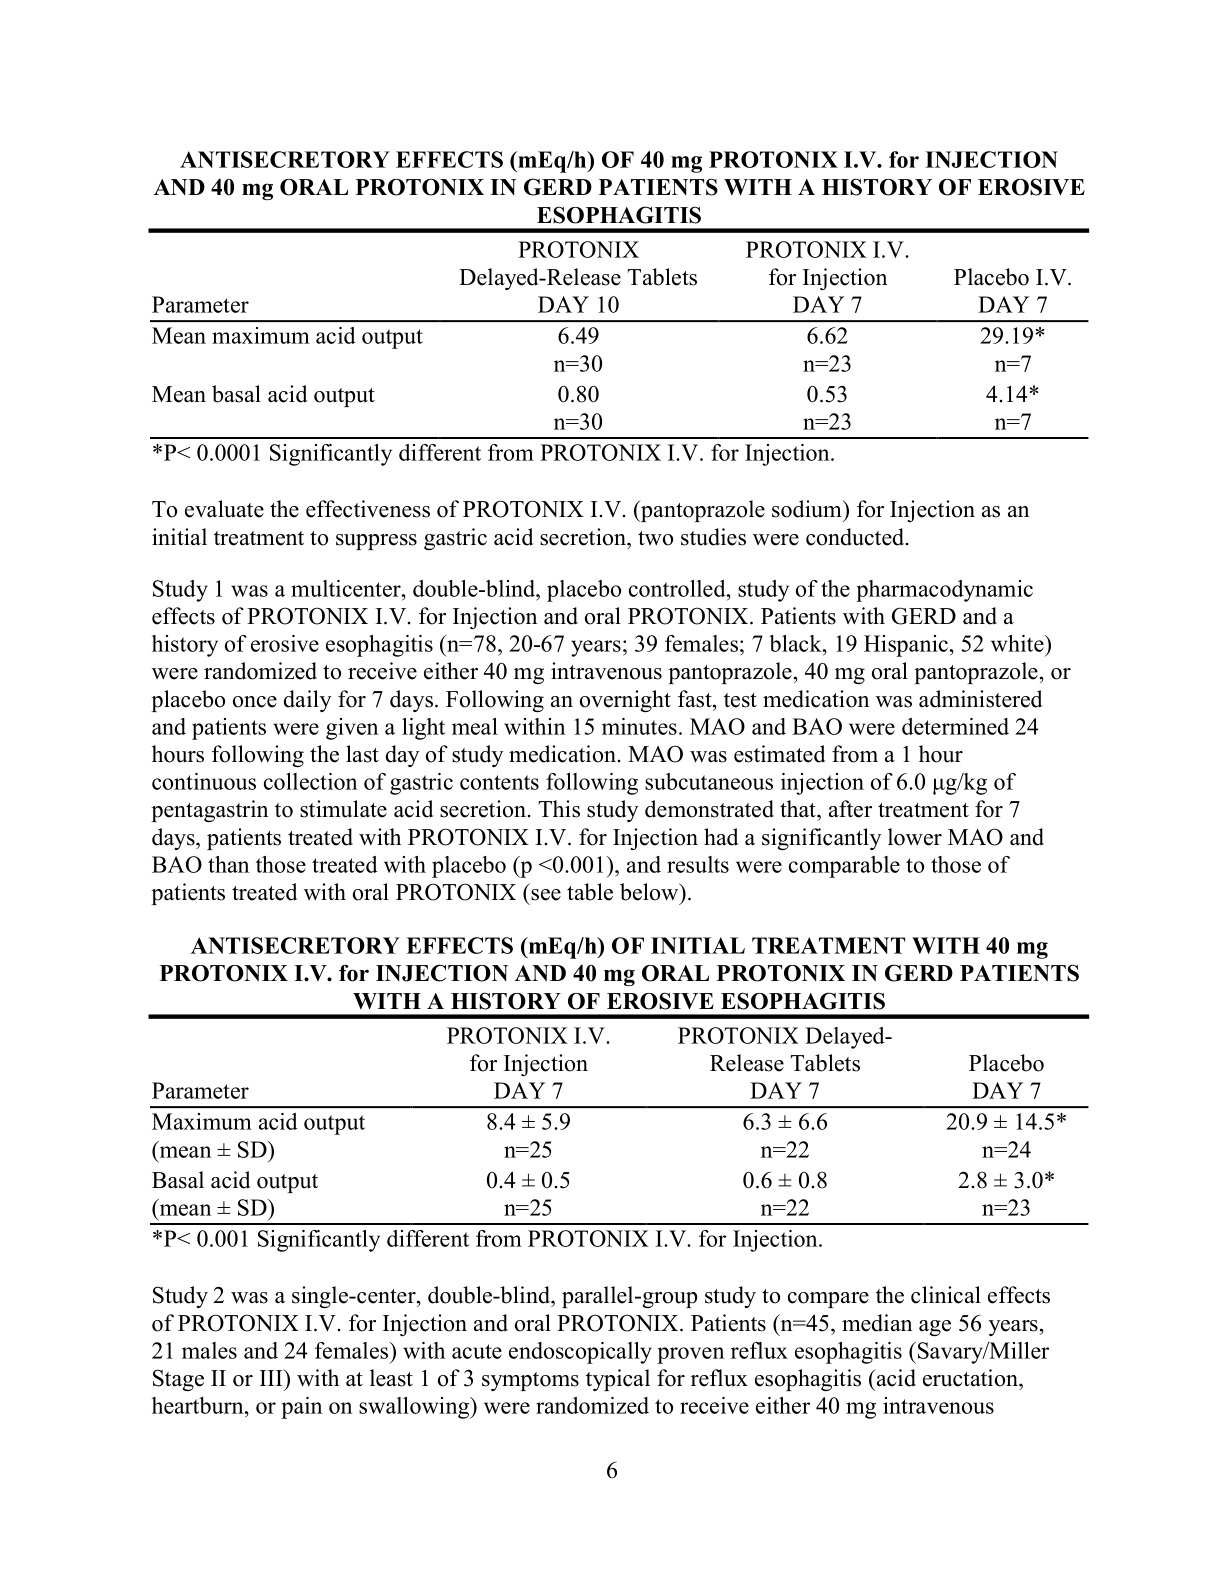partial_lined: (147, 1012, 1094, 1227), (141, 226, 1092, 438)
